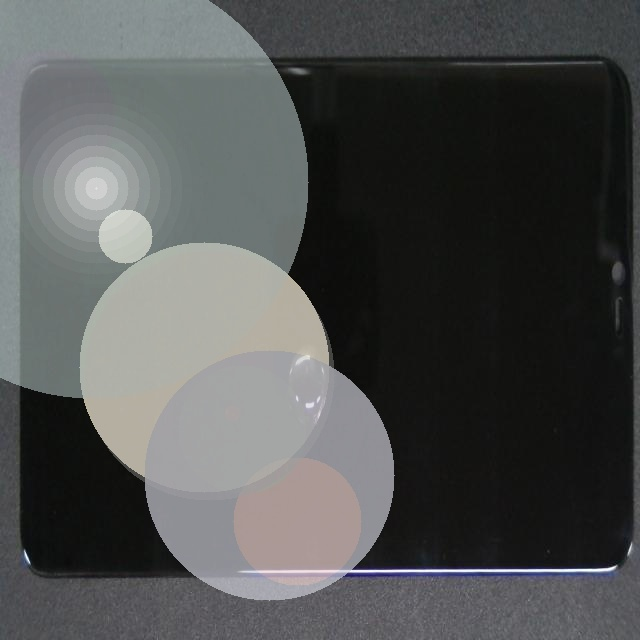oil: (171, 165, 465, 507)
